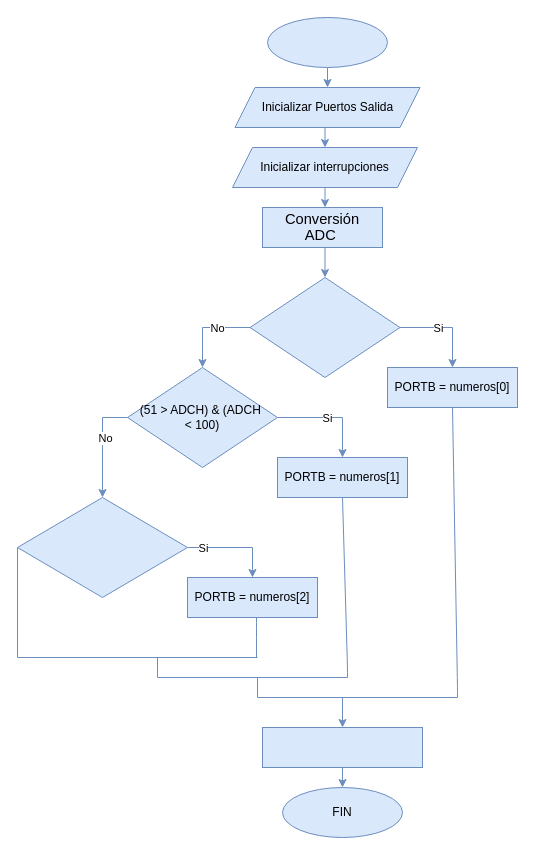
This 535x855 diagram has some shape labels left out. Each missing label, with the centre of its shape:
(0 > ADCH) & (ADCH < 50): the point at 324,327
(101 > ADCH) & (ADCH < 255): the point at 102,547
Encender y apagar led indicador: the point at 342,747
INICIO: the point at 327,42
